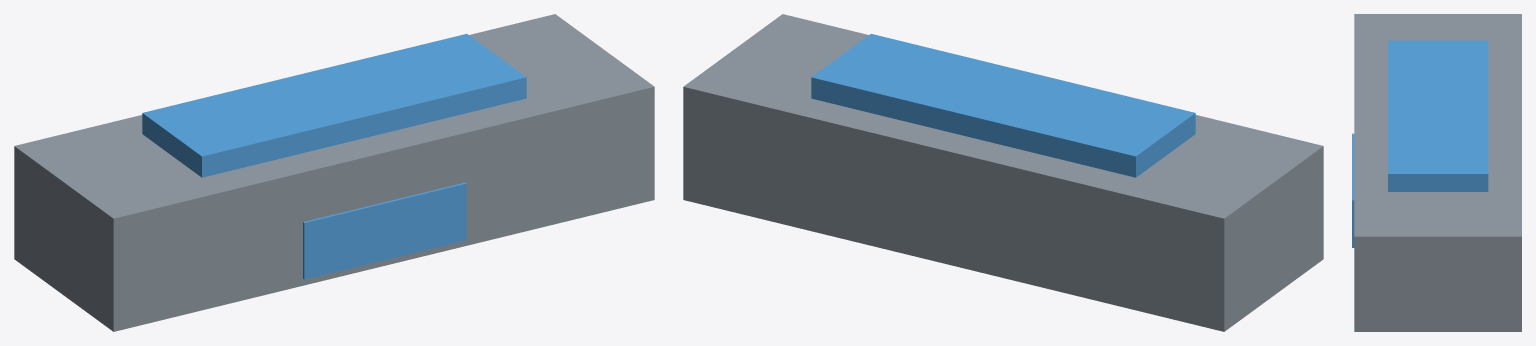
File: AL_HorizonCarrier_LOD0.glb
3 views of the same model, side by side, from view 1: azimuth 30°, elevation 25°; view 2: azimuth 150°, elevation 25°; view 3: azimuth 270°, elevation 25° (orthographic). The views are drawn at different scales.
Visible parts, largest first — view 1: EntranceGate; view 2: EntranceGate; view 3: EntranceGate.
Boxes of the visible parts, x1,y1,x2,y2 form: EntranceGate: [14, 14, 654, 331]; EntranceGate: [683, 14, 1323, 331]; EntranceGate: [1352, 14, 1521, 331].
Bounding box in the file's own units: 2200 × 523 × 710.
